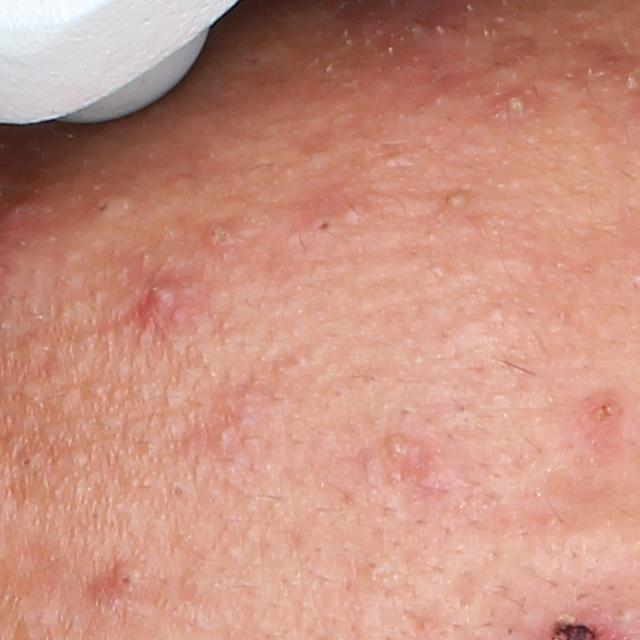comedo: (205, 421, 241, 456), (377, 430, 411, 464), (108, 563, 142, 593), (444, 186, 468, 216), (16, 448, 41, 474), (169, 480, 191, 506), (92, 195, 117, 217), (311, 216, 337, 233)
papule: (130, 264, 191, 325), (575, 393, 629, 445)
pustule: (485, 80, 539, 132)
